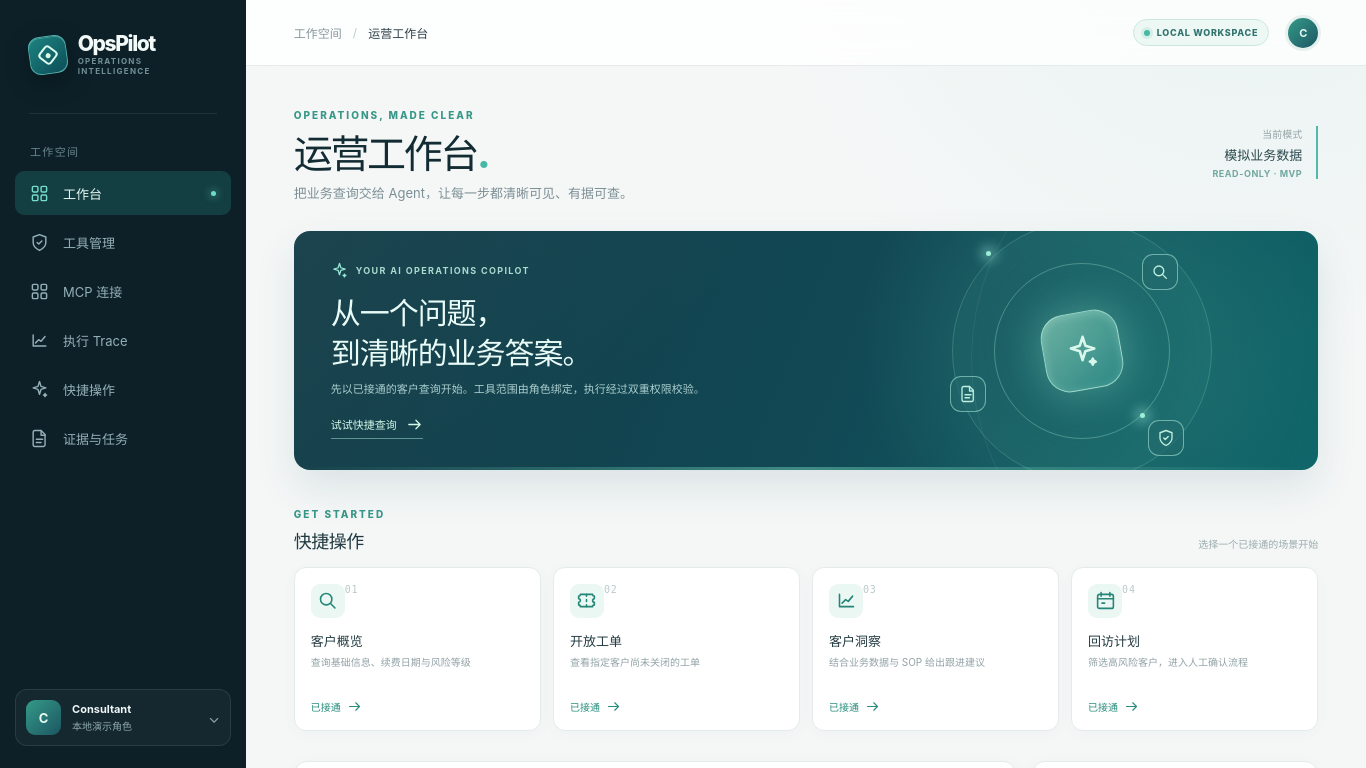
Scenario: OpsPilot current frontend slice › renders citations and Task state only if the backend supplied them
The width and height of the screenshot is (1366, 768).
Click the button with aria-label "开放工单，填入提问" at (676, 649), box [553,567,800,731]
(page scrolled)
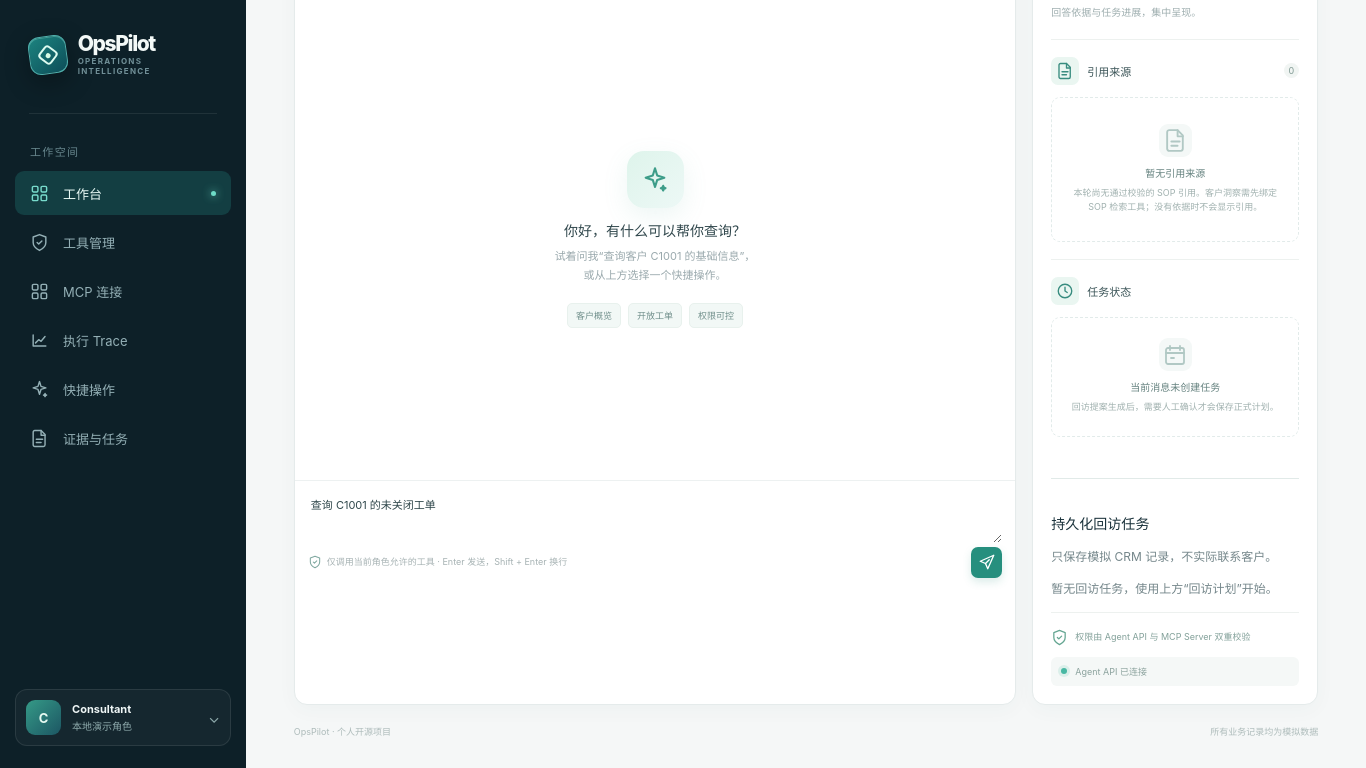
Click the button named "发送消息" at (987, 562), box [971,547,1002,578]
(page scrolled)
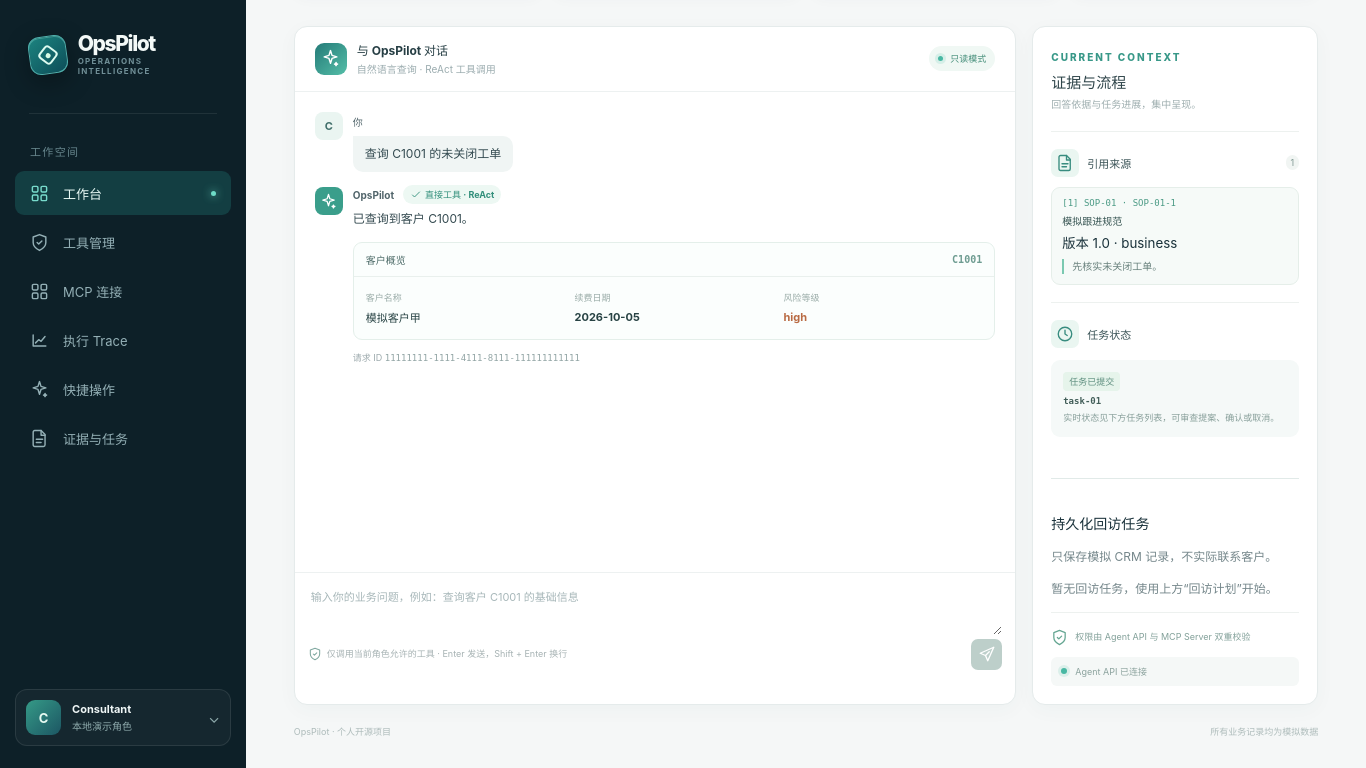
Expected: the text "模拟跟进规范" is shown, [1062,215,1122,227]
Expected: the text "先核实未关闭工单。" is shown, [1062,259,1288,274]
Expected: the text "版本 1.0 · business" is shown, [1062,235,1177,251]
